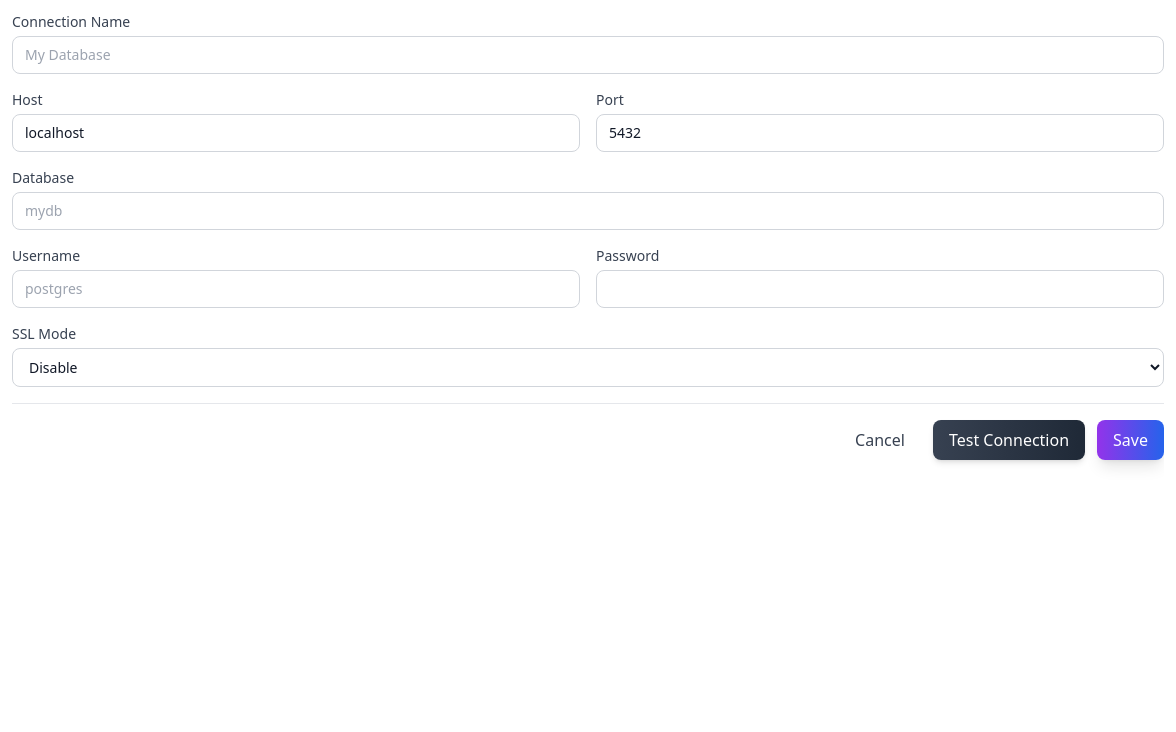
Test: ConnectionForm › shows validation errors for empty required fields
Try to save without filling required fields
Click the button "Save".
click(1131, 440)  # box x1=1097 y1=420 x2=1164 y2=460
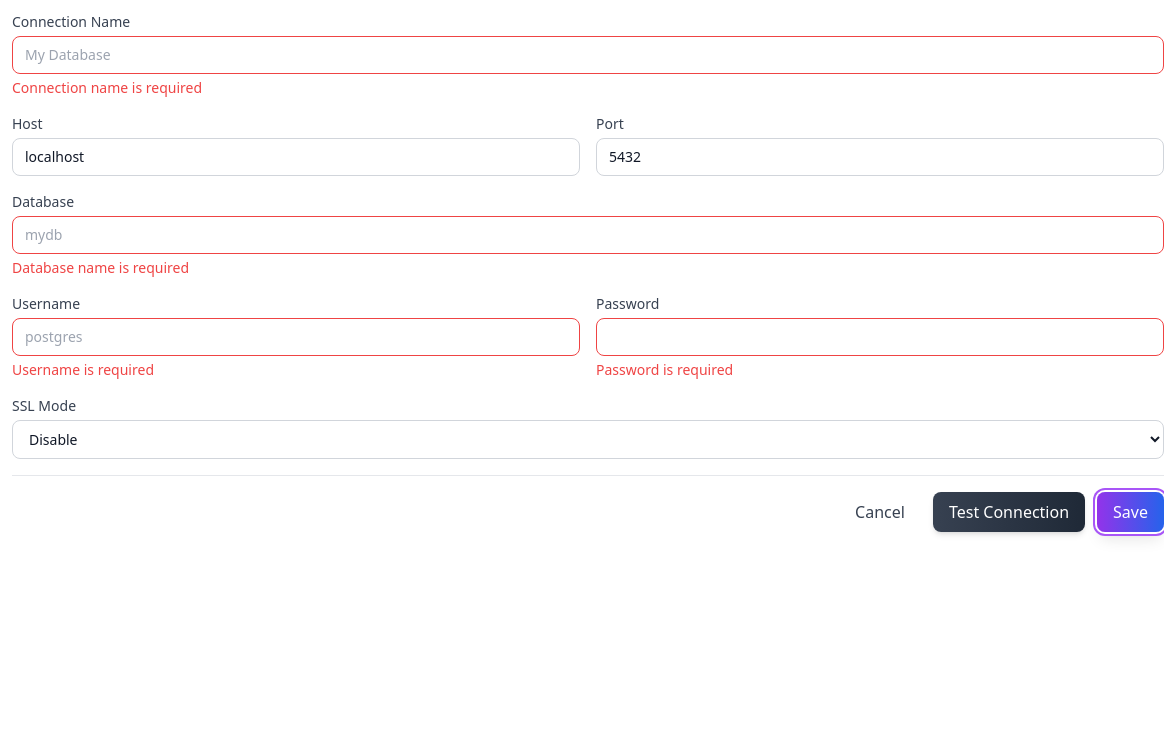
Expected: the text "Connection name is required" is shown, x1=12 y1=78 x2=202 y2=97
